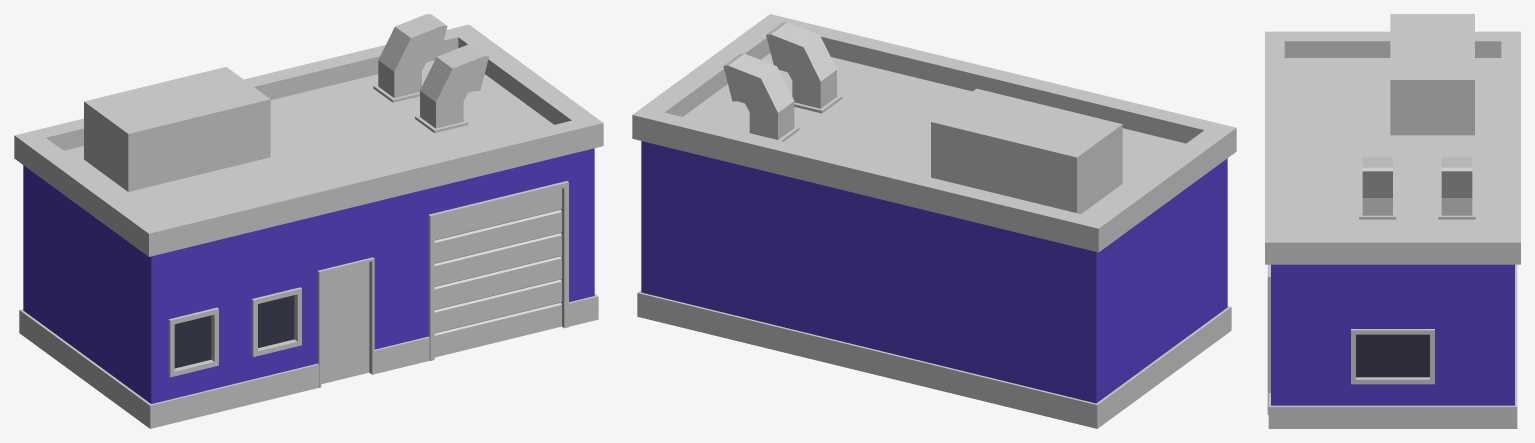
3 views of the same model, side by side, from view 1: azimuth 30°, elevation 25°; view 2: azimuth 150°, elevation 25°; view 3: azimuth 270°, elevation 25° (orthographic). The views are drawn at different scales.
Visible parts, largest first — view 1: Roof, Main building, Garage door, Bottom section, Ventilation, Window frames, Door, Window glass; view 2: Main building, Roof, Bottom section, Ventilation; view 3: Roof, Main building, Bottom section, Ventilation, Window glass, Window frames.
Boxes of the visible parts, left/top/right/bottom form: Roof: left=14, top=24, right=603, bottom=256; Main building: left=23, top=148, right=594, bottom=403; Garage door: left=434, top=188, right=561, bottom=357; Bottom section: left=19, top=294, right=598, bottom=428; Ventilation: left=373, top=14, right=488, bottom=133; Window frames: left=168, top=181, right=568, bottom=387; Door: left=321, top=262, right=369, bottom=384; Window glass: left=174, top=295, right=294, bottom=368; Main building: left=641, top=141, right=1227, bottom=403; Roof: left=632, top=14, right=1236, bottom=252; Bottom section: left=637, top=290, right=1231, bottom=428; Ventilation: left=723, top=22, right=842, bottom=141; Roof: left=1265, top=14, right=1520, bottom=264; Main building: left=1271, top=264, right=1514, bottom=405; Bottom section: left=1268, top=264, right=1517, bottom=428; Ventilation: left=1359, top=157, right=1475, bottom=219; Window glass: left=1356, top=334, right=1429, bottom=377; Window frames: left=1267, top=264, right=1434, bottom=414.
Size of the model in its own units: 0.082 by 0.0419 by 0.042.
